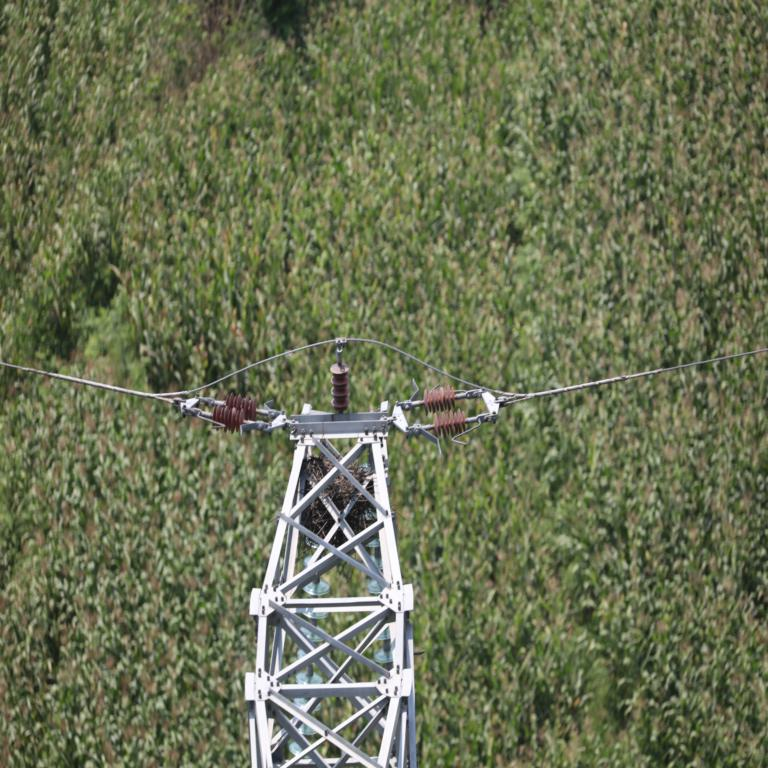nest: (303, 457, 375, 544)
